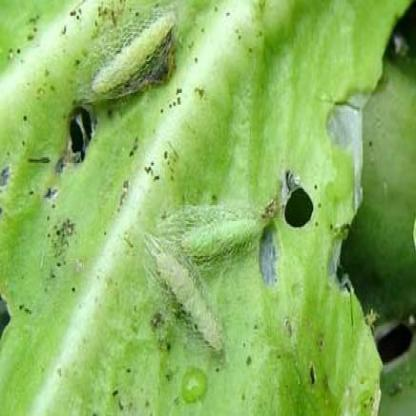armyworm: (150, 237, 228, 352), (89, 6, 178, 95), (181, 208, 273, 261)
